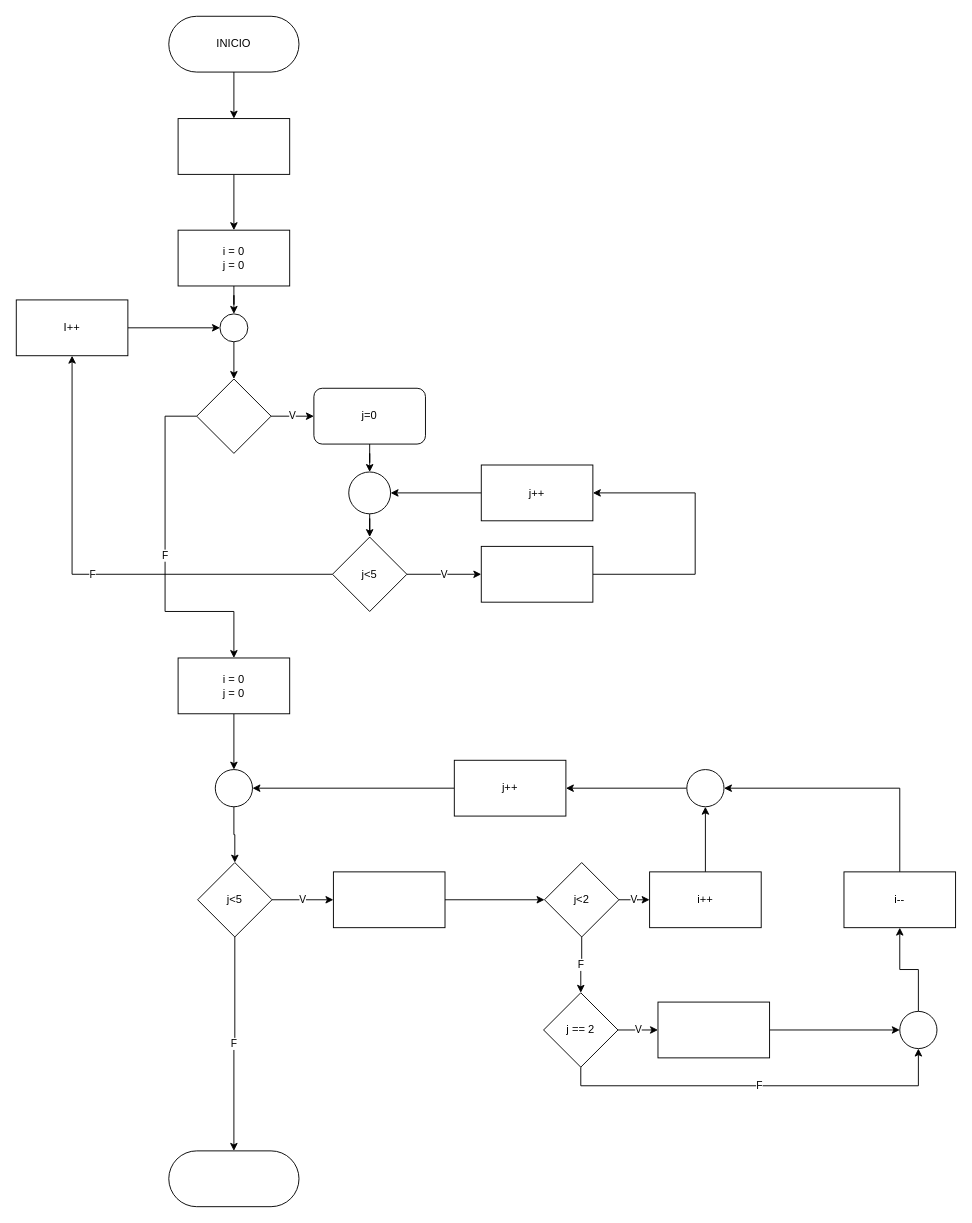
This 972x1223 diagram has some shape labels left out. The shapes that lost their labels are listed below. From the top down, each one's box as (x1, y1, x2, y2) in pixels, then its label:
(177, 118, 290, 174): int i int j char m[5][5]
(196, 378, 271, 453): i<5
(480, 545, 593, 602): m[i][j] = ' '
(332, 871, 445, 928): m[i][j] = '*'
(657, 1001, 770, 1058): m[i+1][j] = '*' m[i+2][j] = '*'
(168, 1150, 299, 1207): FIN
